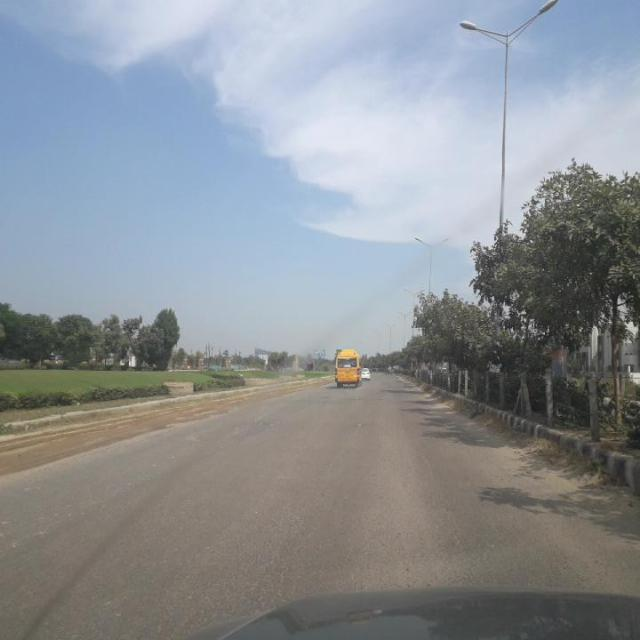D20: (170, 444, 562, 606)
D40: (207, 407, 291, 452)
